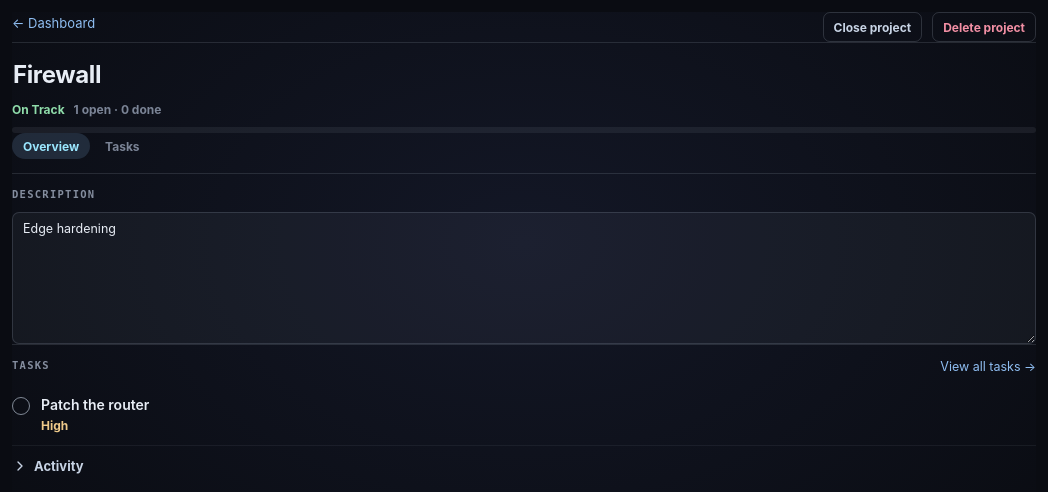
it: ProjectDetailPage › keeps a name edit typed while the description save is in flight
Check: the field named "Project name" holds "Firewall", box top-left (12, 57), bottom-right (1036, 93)
Replace the text in the text box named "Project description" with "Perimeter hardening" at x=524, y=278, box top-left (12, 212), bottom-right (1036, 344)
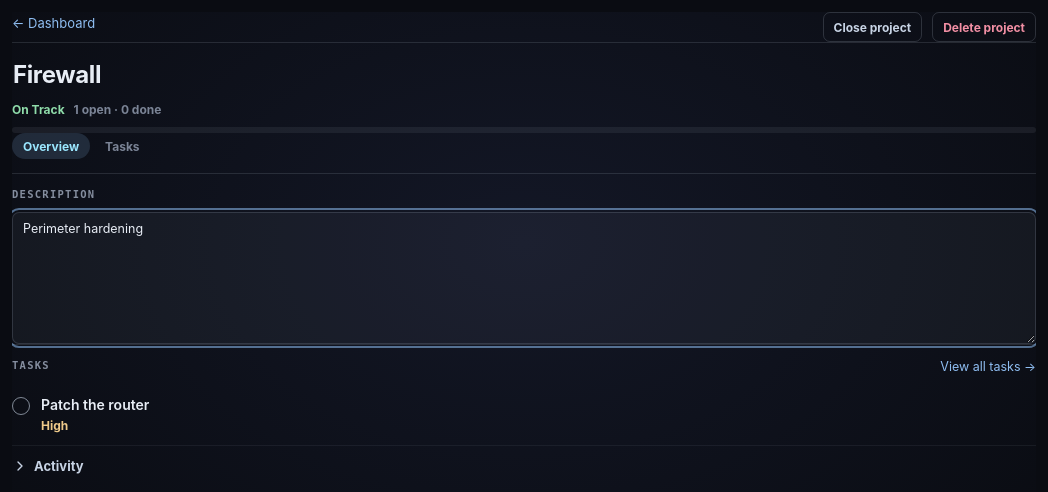
Click the field named "Project name" at x=524, y=75, box top-left (12, 57), bottom-right (1036, 93)
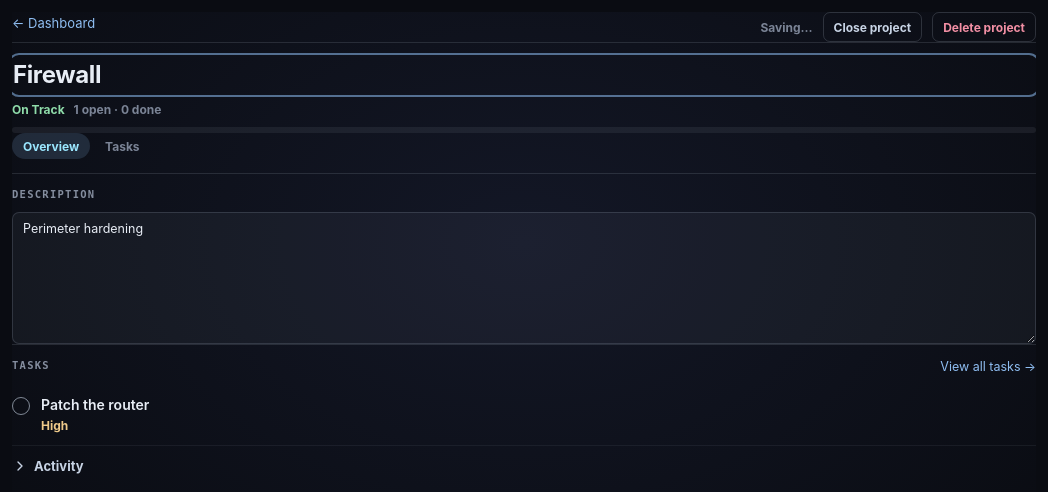
Type " v2" into the field named "Project name" at x=524, y=75, box top-left (12, 57), bottom-right (1036, 93)
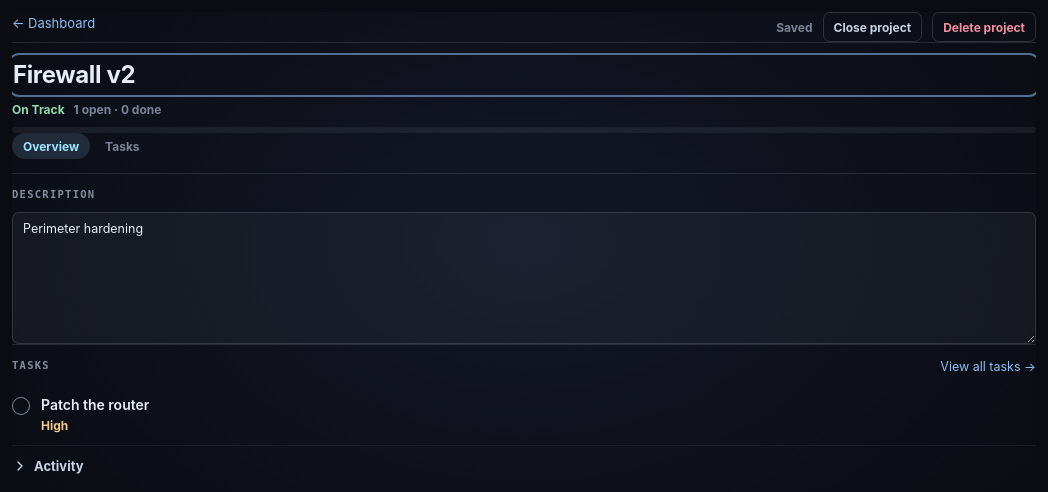
Check: the text "Saved" is shown, box top-left (776, 20), bottom-right (813, 34)
Check: the field named "Project name" holds "Firewall v2", box top-left (12, 57), bottom-right (1036, 93)
